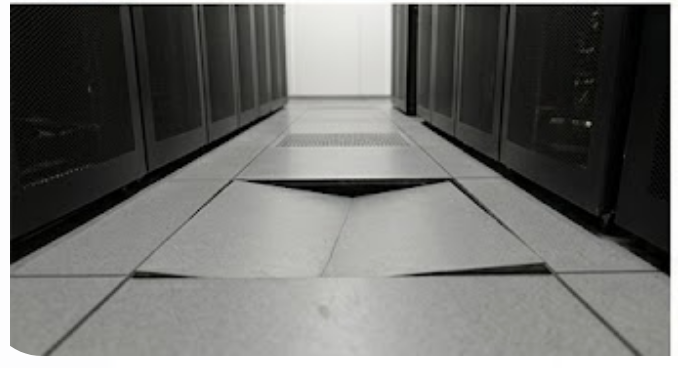floor_defect: (126, 173, 561, 280)
